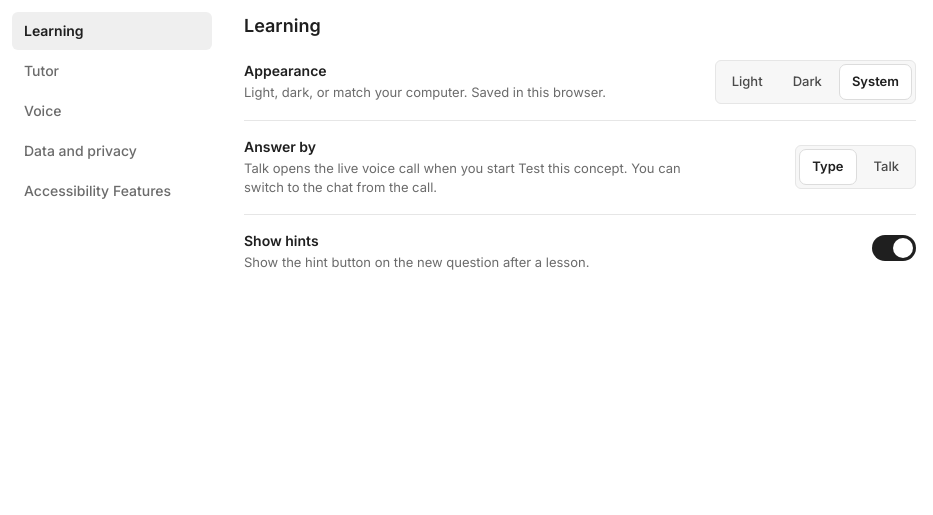
it: data settings › only starts a course over once its name is typed exactly
Click the tab "Data and privacy" at coordinates (112, 151), box [12,132,212,170]
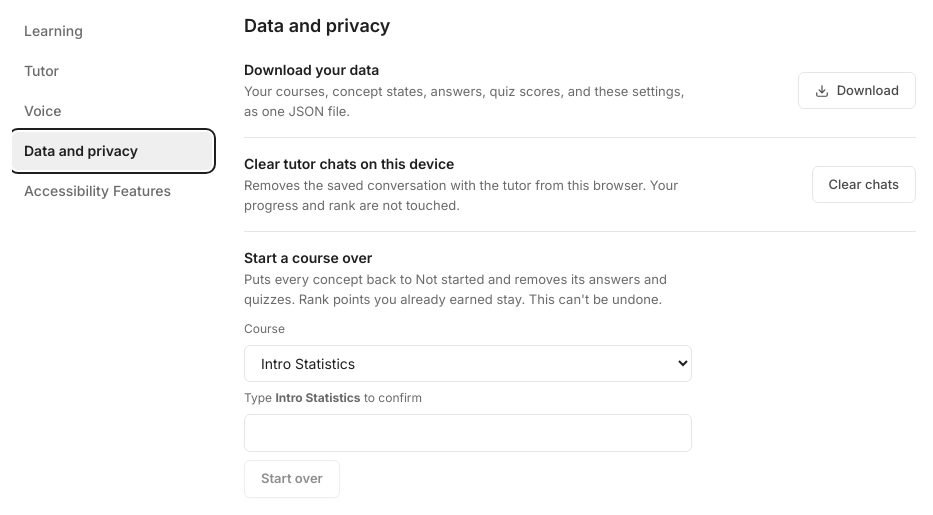
Expected: the button "Start over" is disabled, [244,460,340,498]
Type "Intro Stat" into the field labelled "Type Intro Statistics to confirm" at coordinates (468, 433), box [244,414,692,452]
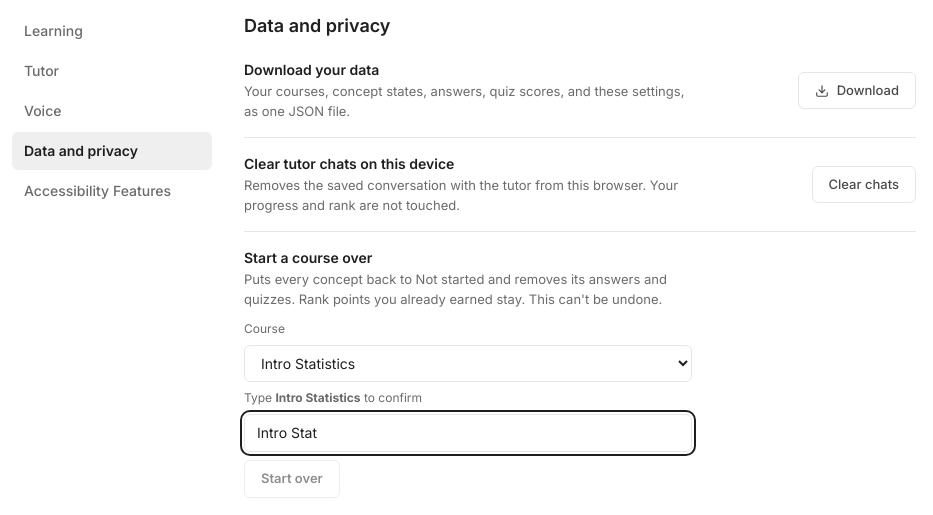
Expected: the button "Start over" is disabled, [244,460,340,498]
Type "istics" into the field labelled "Type Intro Statistics to confirm" at coordinates (468, 433), box [244,414,692,452]
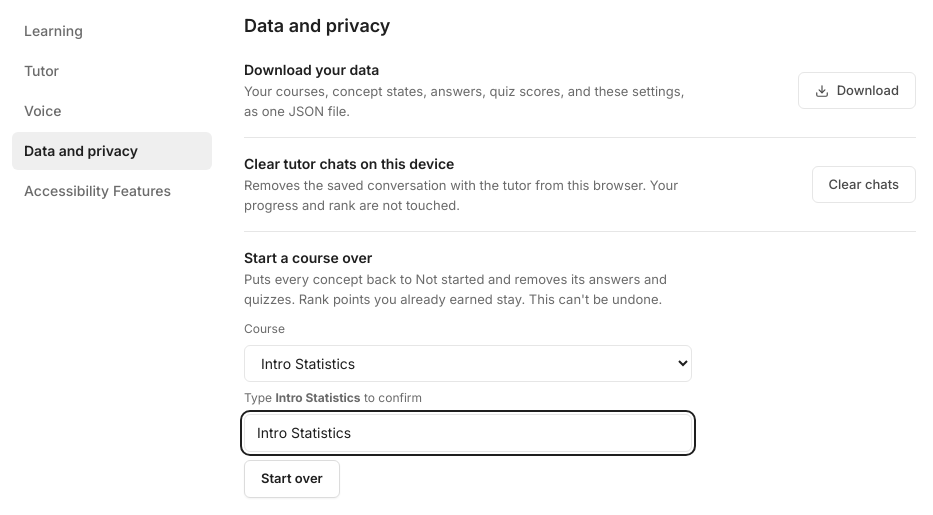
Expected: the button "Start over" is enabled, [244,460,340,498]
